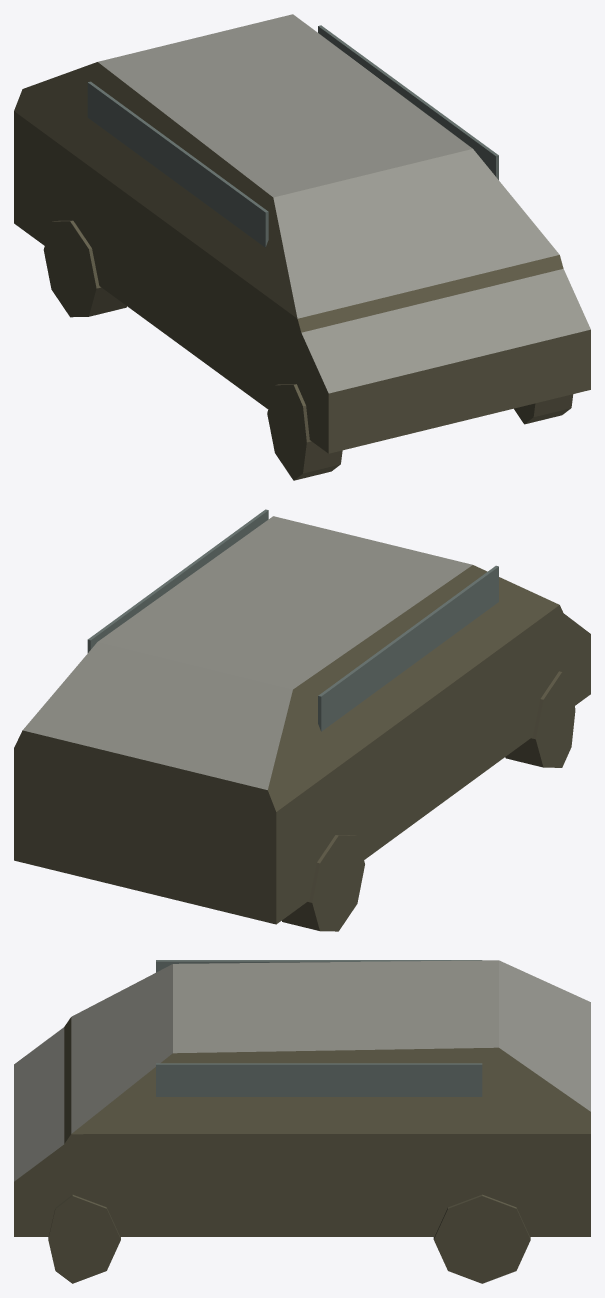
Rendered from SM_CocheCivil_Utilitario_v3_LOD1.fbx.
3 views of the same model, one above another, from view 1: azimuth 30°, elevation 25°; view 2: azimuth 150°, elevation 25°; view 3: azimuth 270°, elevation 25° (orthographic). The views are drawn at different scales.
Parts seen in each view (by area): view 1: SM_coche_civil_v3_LOD1; view 2: SM_coche_civil_v3_LOD1; view 3: SM_coche_civil_v3_LOD1.
Boxes of the visible parts, <box> form: SM_coche_civil_v3_LOD1: <box>14,14,590,480</box>; SM_coche_civil_v3_LOD1: <box>14,509,590,931</box>; SM_coche_civil_v3_LOD1: <box>14,960,590,1283</box>.
Size of the model in its own units: 1.7 by 1.45 by 3.45.
